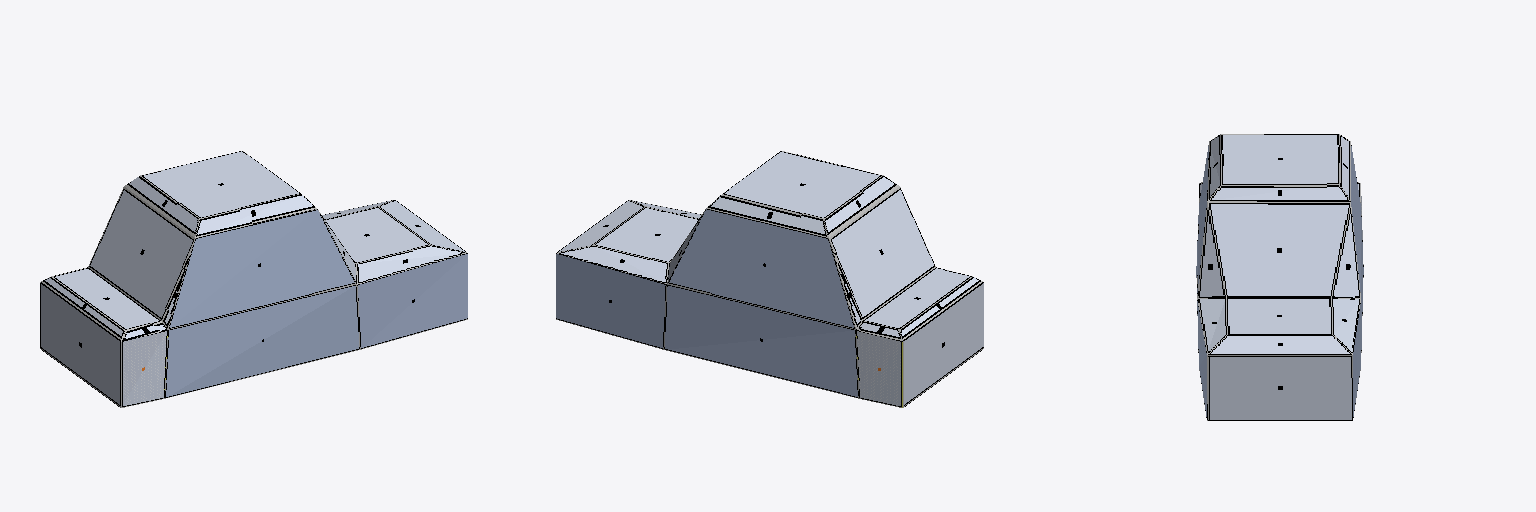
3 views of the same model, side by side, from view 1: azimuth 30°, elevation 25°; view 2: azimuth 150°, elevation 25°; view 3: azimuth 270°, elevation 25° (orthographic).
Bounding box in the file's own units: 5 × 2.17 × 2.06.
1 materials, 1 textured.